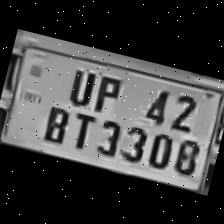0: (141, 126, 176, 171)
2: (164, 86, 202, 134)
3: (115, 119, 150, 164), (90, 114, 124, 158)
4: (136, 80, 174, 125)
8: (168, 132, 205, 178)
B: (36, 100, 74, 146)
P: (88, 67, 127, 115)
T: (63, 108, 98, 152)
U: (60, 60, 99, 108)
